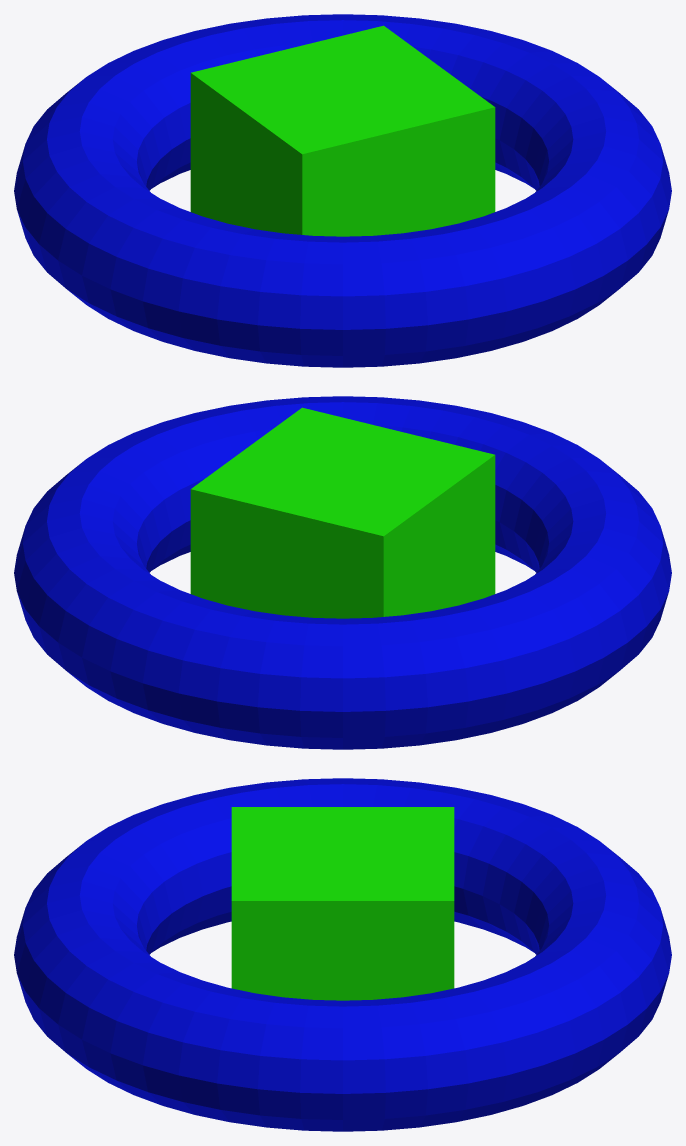
The picture shows the model from 3 angles, top to bottom: view 1: azimuth 30°, elevation 25°; view 2: azimuth 150°, elevation 25°; view 3: azimuth 270°, elevation 25°; orthographic projection.
Visible parts, largest first — view 1: Torus, Box; view 2: Torus, Box; view 3: Torus, Box.
Boxes of the visible parts, x1,y1,x2,y2 form: Torus: [14, 14, 671, 367]; Box: [190, 25, 495, 236]; Torus: [14, 396, 671, 749]; Box: [190, 407, 495, 618]; Torus: [14, 778, 671, 1131]; Box: [231, 807, 454, 1000].
Size of the model in its own units: 5.9 by 2 by 5.9.
